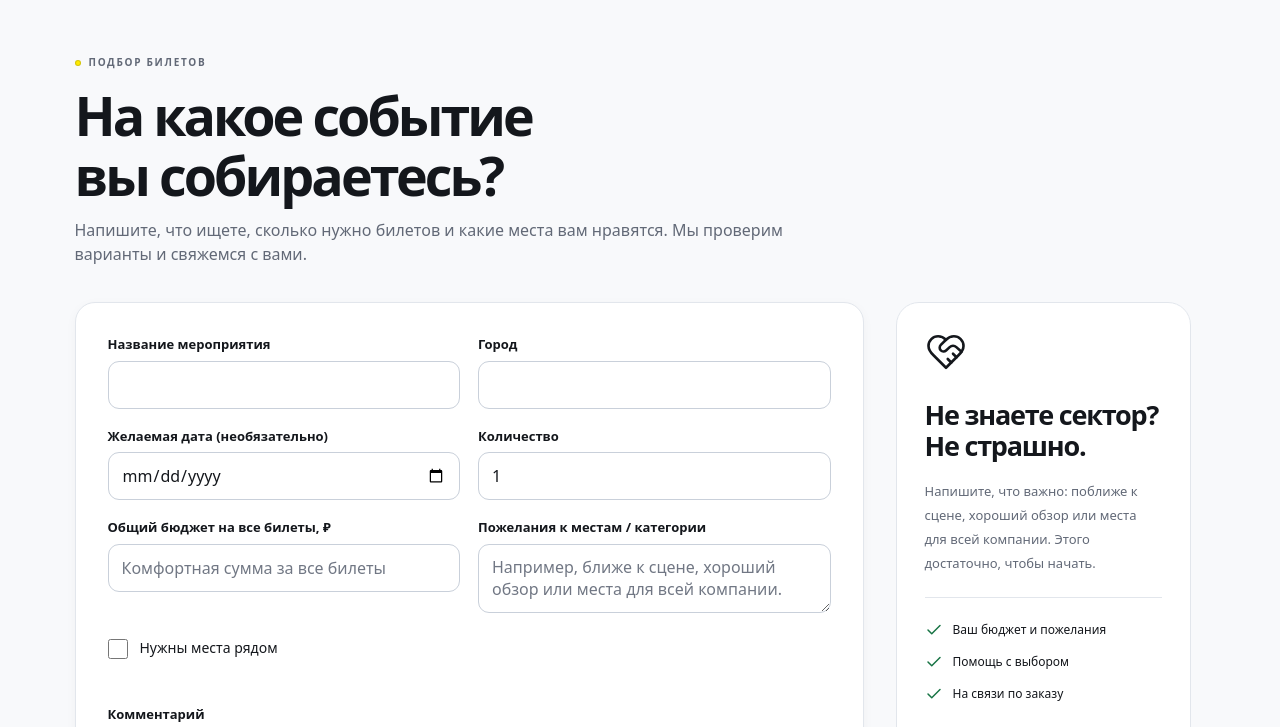
it: guest ticket request › shows the form for a guest, authenticates inline, and keeps the typed request without auto-submitting
Type "Матч в субботу" into the field labelled "Название мероприятия".
click(284, 385); type("Матч в субботу")  # box [108,361,460,409]
(page scrolled)
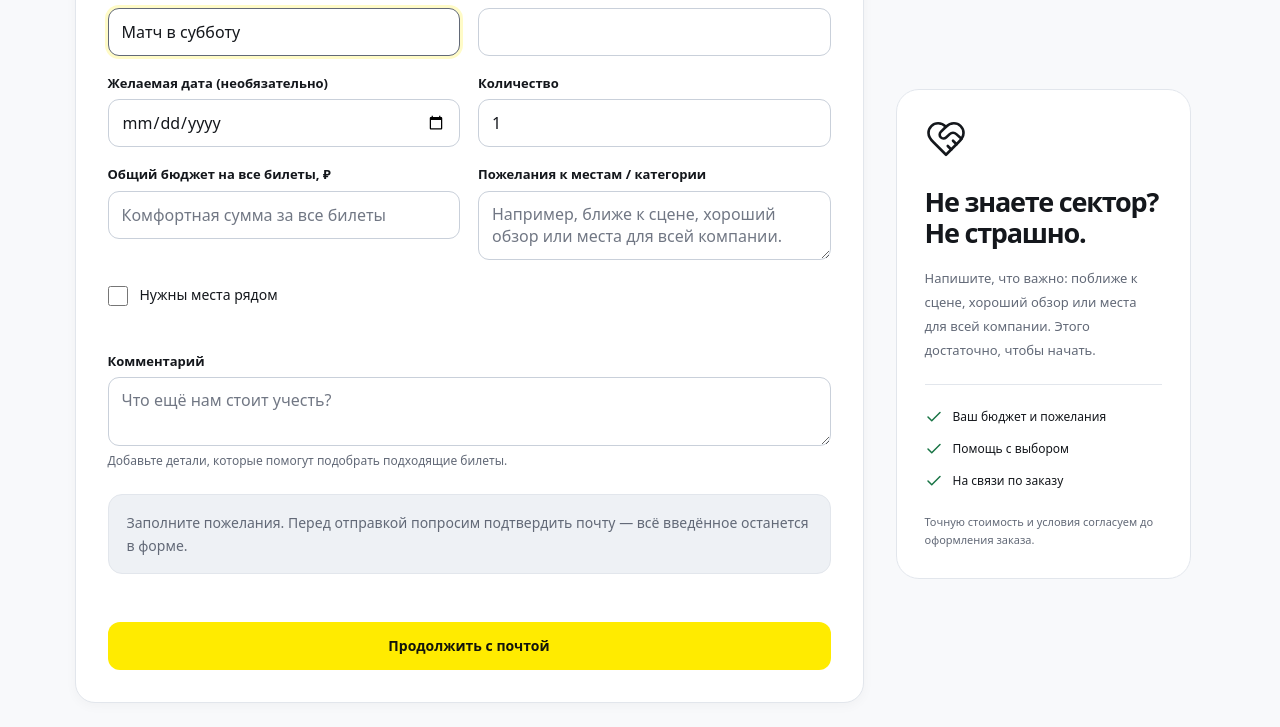
Click the button "Продолжить с почтой".
click(469, 646)  # box [108,622,830,670]
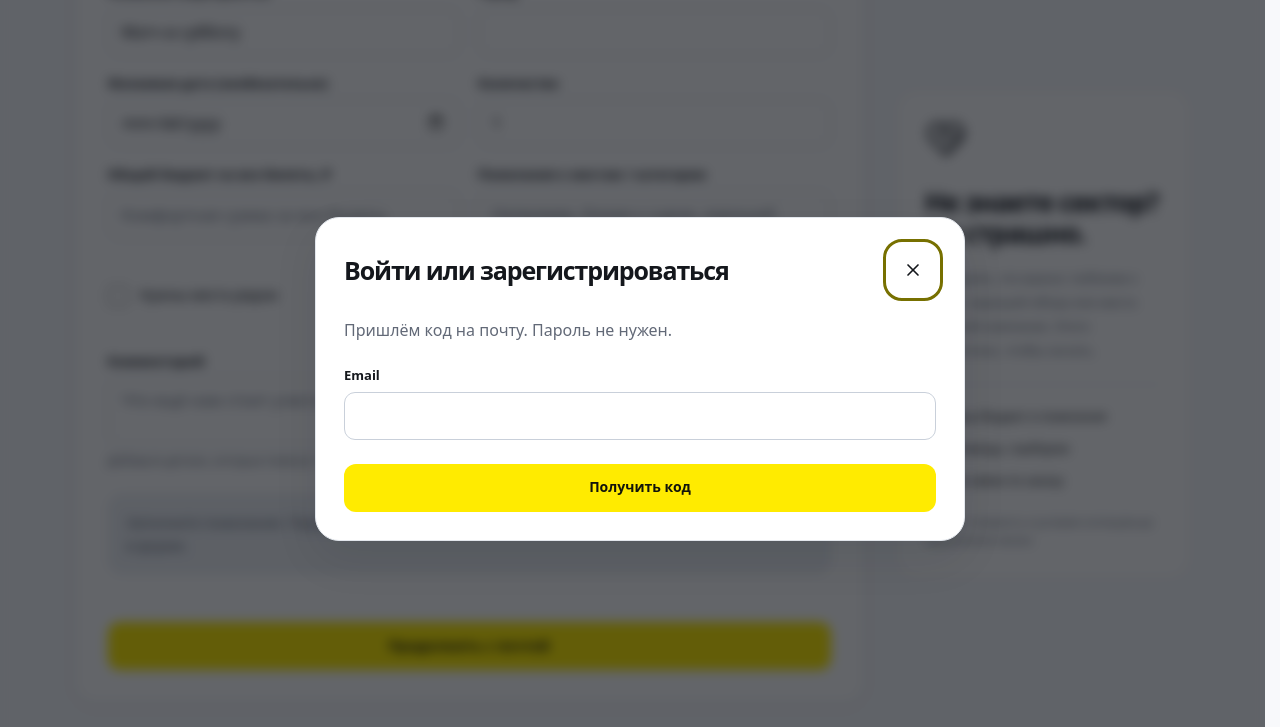
Now the dialog is shown, box [315,217,965,541]
Type "test@example.test" into the field labelled "Email".
click(640, 416); type("test@example.test")  # box [344,392,936,440]
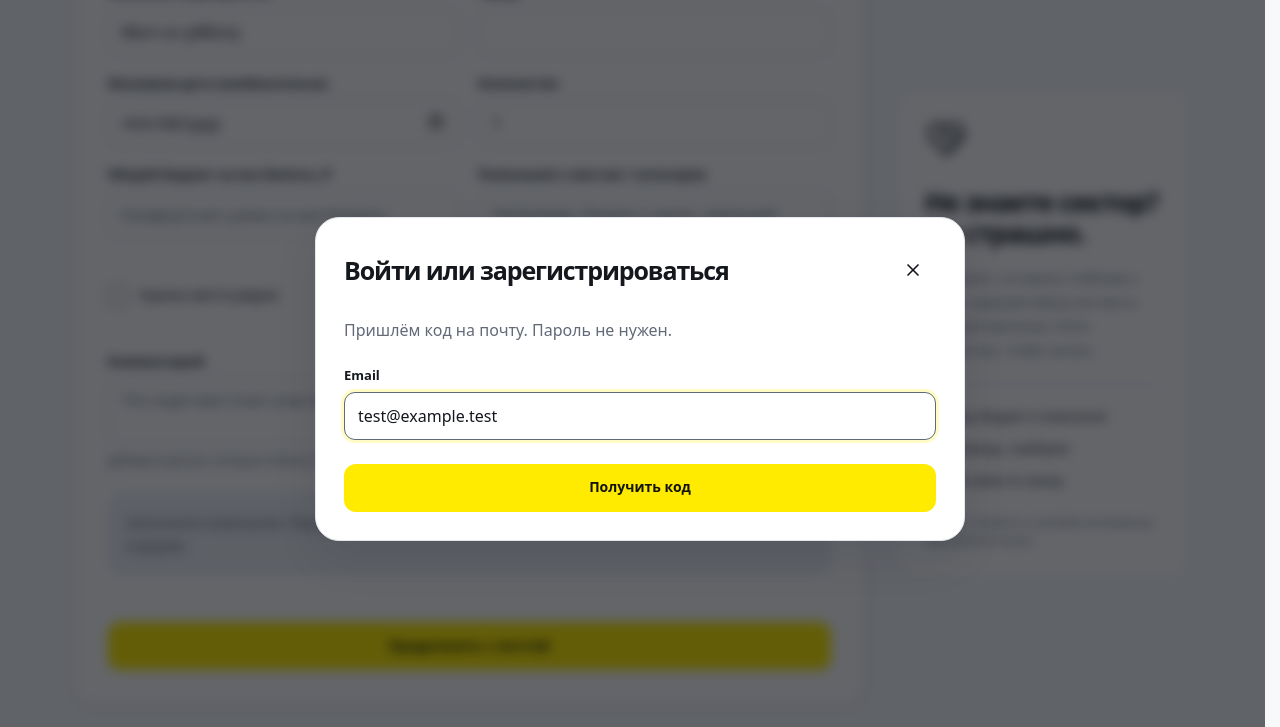
Click the button "Получить код".
click(640, 488)  # box [344,464,936,512]
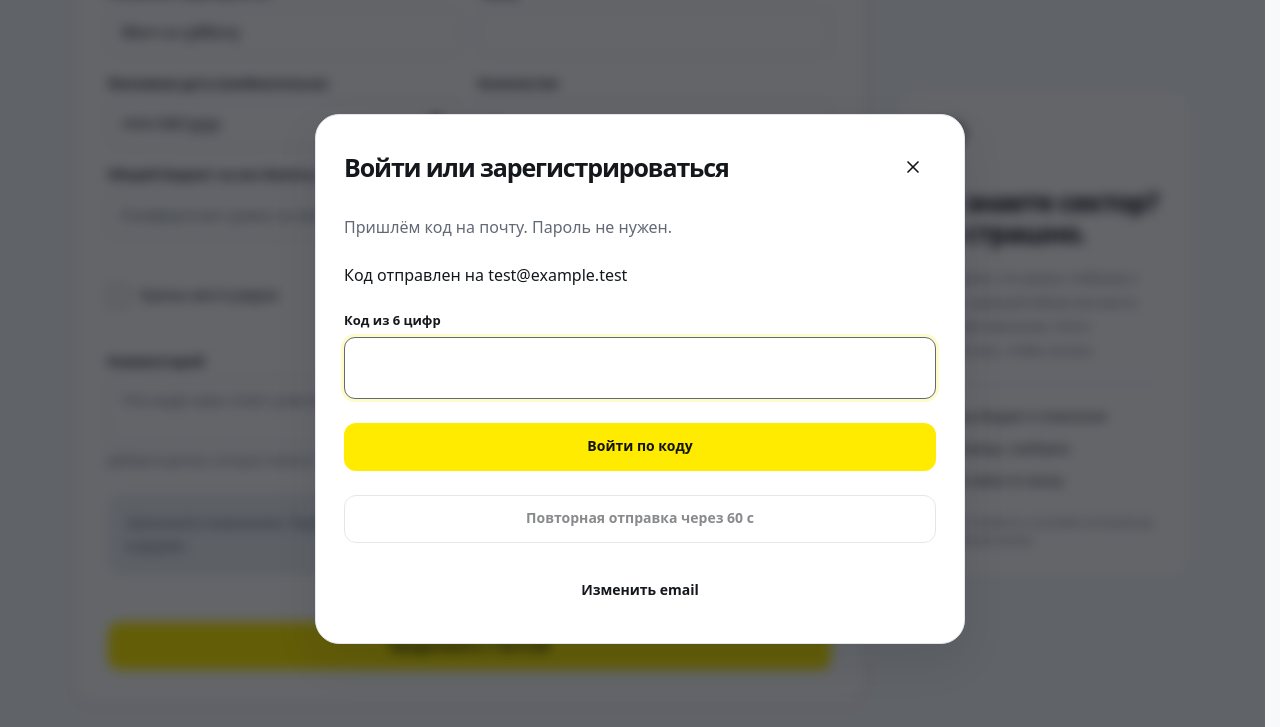
Type "123456" into the field labelled "Код из 6 цифр".
click(640, 368); type("123456")  # box [344,337,936,399]
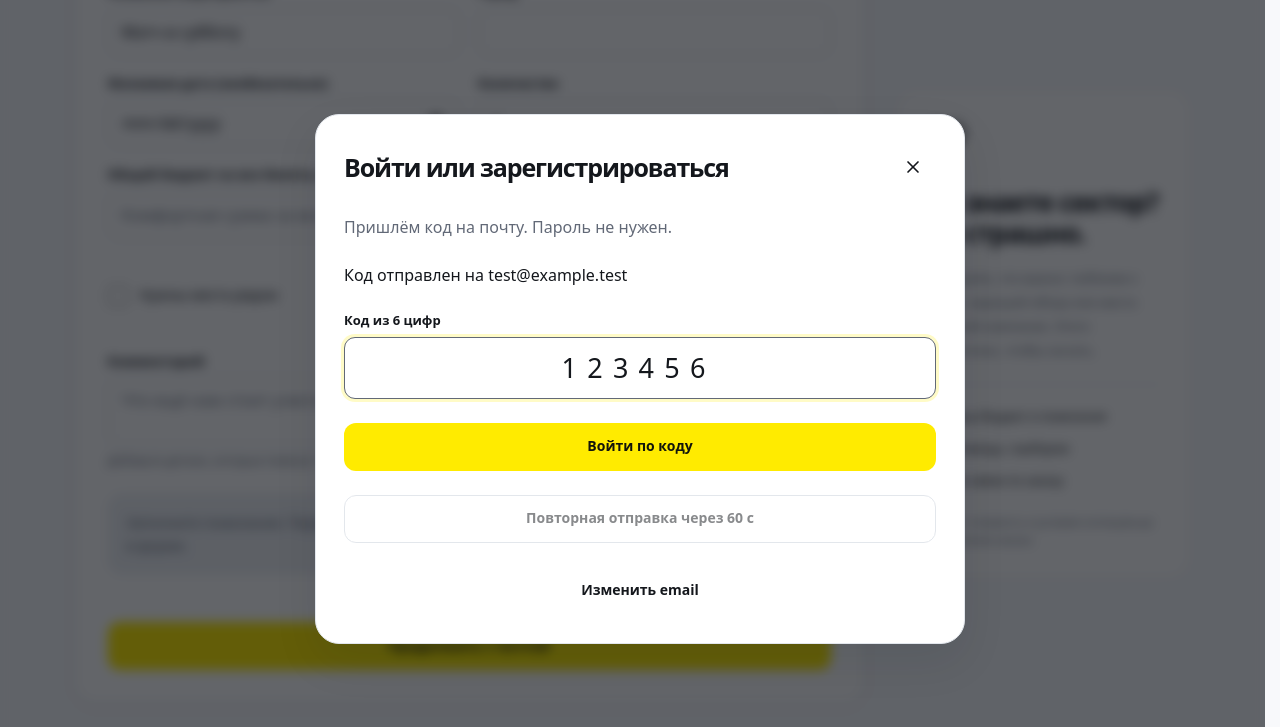
Click the button "Войти по коду".
click(640, 447)  # box [344,423,936,471]
(page scrolled)
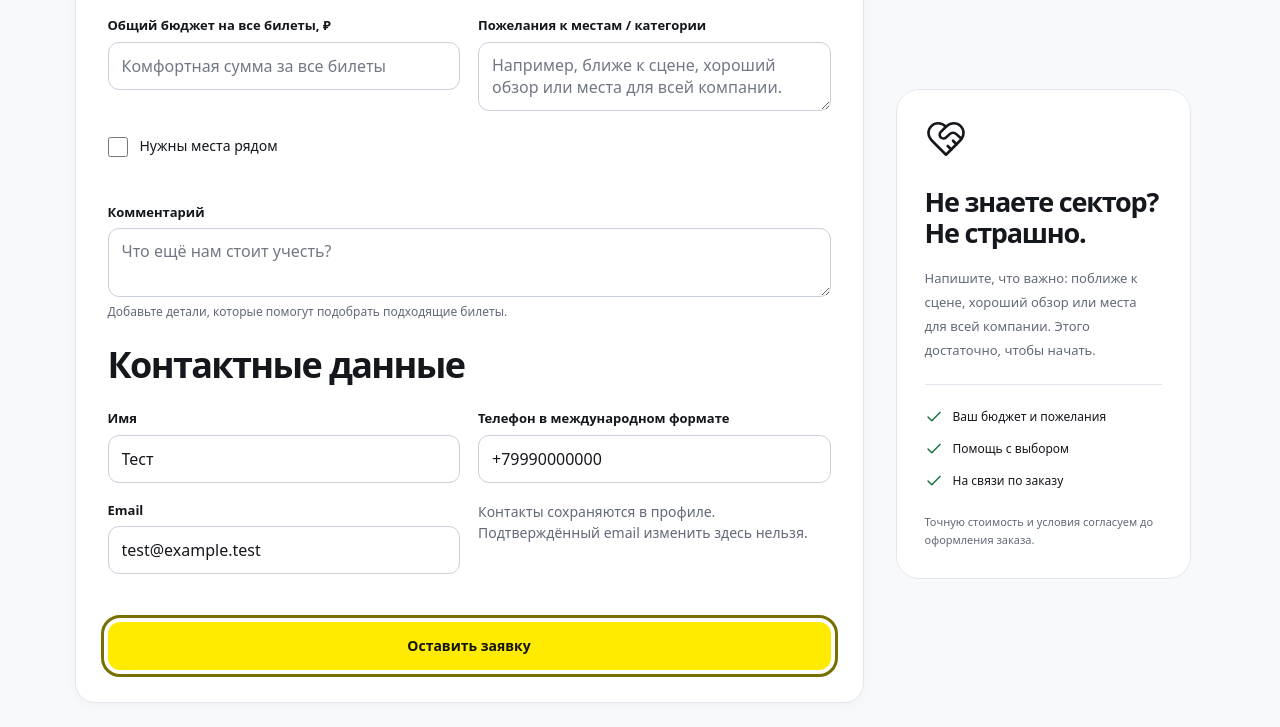
Now the dialog is gone
Now the button "Оставить заявку" is shown, box [108,622,830,670]
